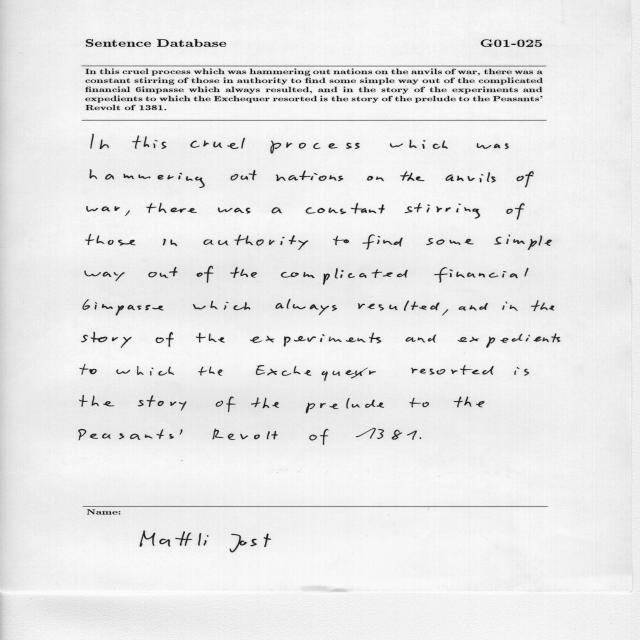word: (90, 169, 205, 188), (281, 268, 408, 285), (256, 365, 376, 381), (250, 333, 381, 347), (204, 234, 309, 250), (458, 333, 561, 348), (435, 267, 529, 283), (83, 299, 163, 316), (405, 203, 480, 219), (270, 141, 360, 154), (306, 398, 384, 413), (79, 429, 183, 440), (276, 299, 337, 315), (358, 300, 439, 311), (494, 235, 552, 250), (306, 203, 385, 214), (411, 365, 494, 375), (81, 332, 132, 348), (138, 395, 187, 411), (356, 428, 417, 440), (212, 429, 278, 440), (276, 171, 343, 181), (362, 235, 403, 250), (191, 138, 246, 149), (86, 234, 136, 246), (116, 366, 174, 376), (445, 172, 496, 183), (390, 140, 448, 149), (193, 301, 250, 310), (146, 203, 197, 213), (132, 135, 167, 149), (85, 271, 125, 282), (79, 395, 114, 407), (148, 267, 178, 278), (454, 397, 484, 408), (427, 238, 474, 245), (506, 203, 525, 220), (309, 429, 329, 445), (251, 398, 279, 409), (216, 397, 236, 412), (230, 170, 257, 181), (230, 267, 257, 278), (196, 333, 225, 343), (197, 266, 214, 283), (517, 171, 534, 187), (91, 134, 109, 149), (156, 332, 174, 347), (406, 334, 436, 343), (531, 300, 554, 311), (401, 171, 425, 181), (458, 303, 488, 311), (198, 367, 223, 376), (218, 207, 250, 214), (86, 206, 120, 212), (477, 143, 509, 149), (410, 398, 429, 408), (80, 364, 97, 375), (333, 236, 349, 245), (502, 302, 518, 311), (515, 367, 530, 376), (163, 239, 177, 246), (367, 176, 384, 181), (272, 208, 282, 214), (442, 309, 448, 316), (125, 211, 130, 216), (420, 437, 422, 439)
